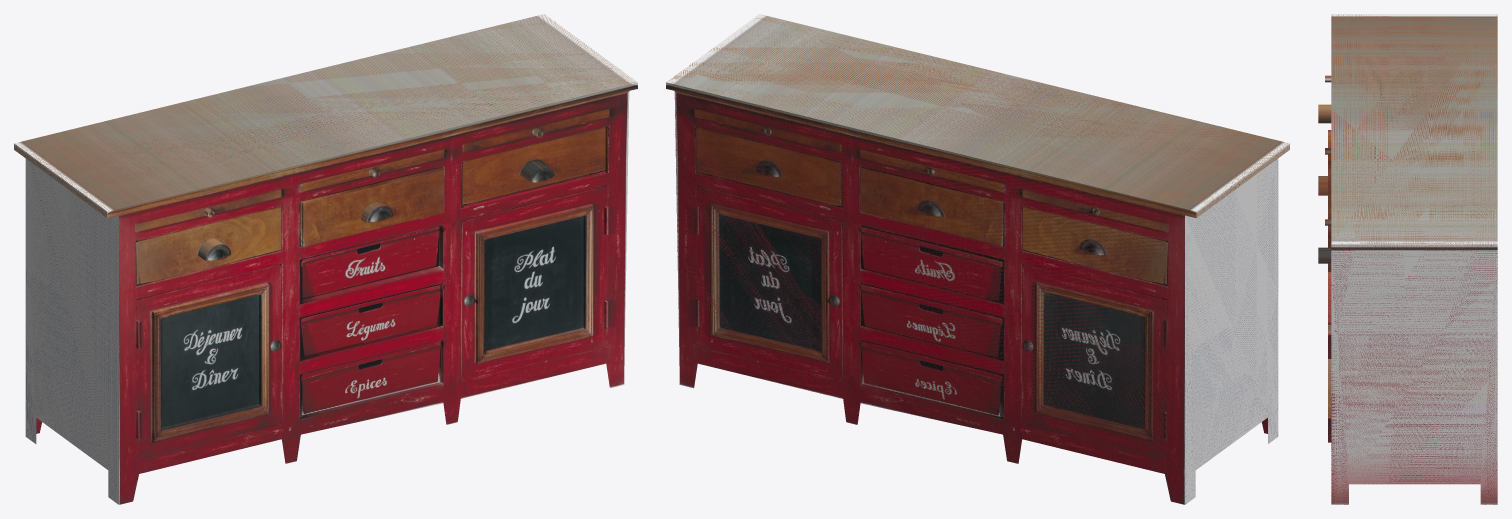
The picture shows the model from 3 angles, left to right: view 1: azimuth 30°, elevation 25°; view 2: azimuth 150°, elevation 25°; view 3: azimuth 270°, elevation 25°; orthographic projection. The views are drawn at different scales.
Visible parts, largest first — view 1: SketchUp.001_ID24, SketchUp_ID2, SketchUp.003_ID45, SketchUp.011_ID111, SketchUp.010_ID103, SketchUp.006_ID71, SketchUp.007_ID79, SketchUp.009_ID95, SketchUp.005_ID63, SketchUp.004_ID55, SketchUp.008_ID87, SketchUp.012_ID119 (+1 smaller); view 2: SketchUp.002_ID32, SketchUp_ID2, SketchUp.003_ID45; view 3: SketchUp.002_ID32, SketchUp_ID2, SketchUp.013_ID127, SketchUp.005_ID63, SketchUp.014_ID135, SketchUp.016_ID151.
Part boxes in pixels (x1,y1,x2,y2): SketchUp.001_ID24: [107, 82, 637, 504]; SketchUp_ID2: [14, 14, 637, 217]; SketchUp.003_ID45: [25, 158, 118, 504]; SketchUp.011_ID111: [486, 215, 585, 353]; SketchUp.010_ID103: [161, 295, 260, 429]; SketchUp.006_ID71: [463, 127, 607, 208]; SketchUp.007_ID79: [302, 225, 443, 303]; SketchUp.009_ID95: [302, 340, 443, 417]; SketchUp.005_ID63: [301, 167, 444, 246]; SketchUp.004_ID55: [136, 207, 283, 286]; SketchUp.008_ID87: [301, 285, 441, 359]; SketchUp.012_ID119: [152, 283, 269, 443]; SketchUp.002_ID32: [674, 91, 1184, 504]; SketchUp_ID2: [666, 14, 1289, 218]; SketchUp.003_ID45: [1185, 158, 1278, 504]; SketchUp.002_ID32: [1331, 250, 1497, 504]; SketchUp_ID2: [1331, 14, 1497, 250]; SketchUp.013_ID127: [1328, 272, 1331, 417]; SketchUp.005_ID63: [1328, 131, 1331, 231]; SketchUp.014_ID135: [1318, 104, 1331, 123]; SketchUp.016_ID151: [1318, 247, 1331, 263].
Size of the model in its own units: 17.55 by 9.46 by 5.78.
5 materials, 3 textured.
